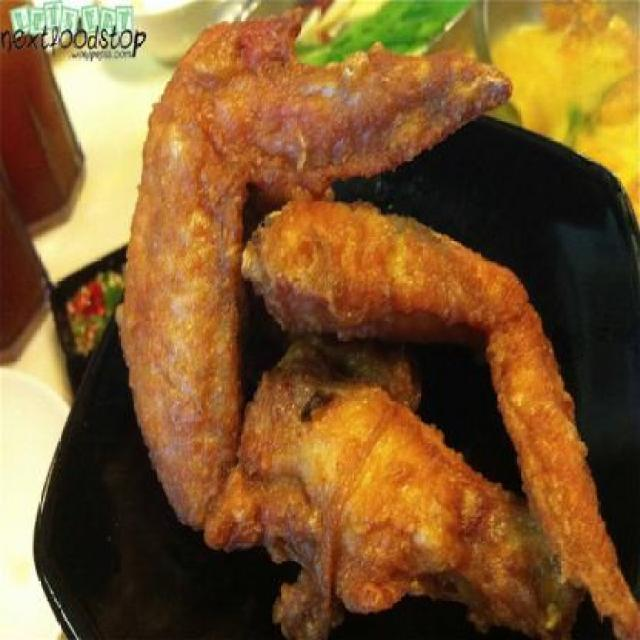Deep fried chicken wing: (121, 21, 625, 628)
